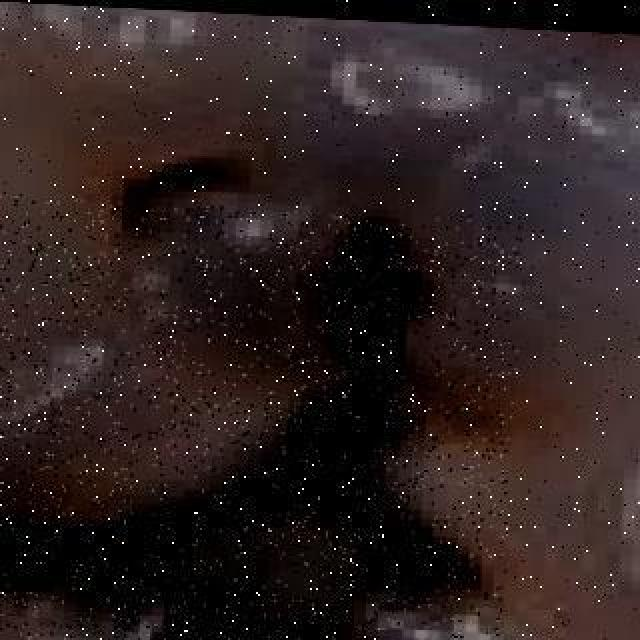cavities: (0, 14, 608, 640)
